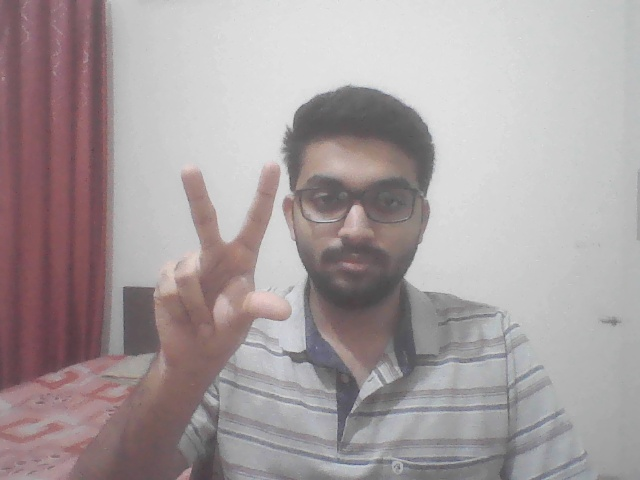no: (115, 147, 317, 394)
